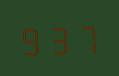nine: (18, 21, 44, 56)
seven: (73, 19, 99, 54)
three: (46, 20, 72, 55)
